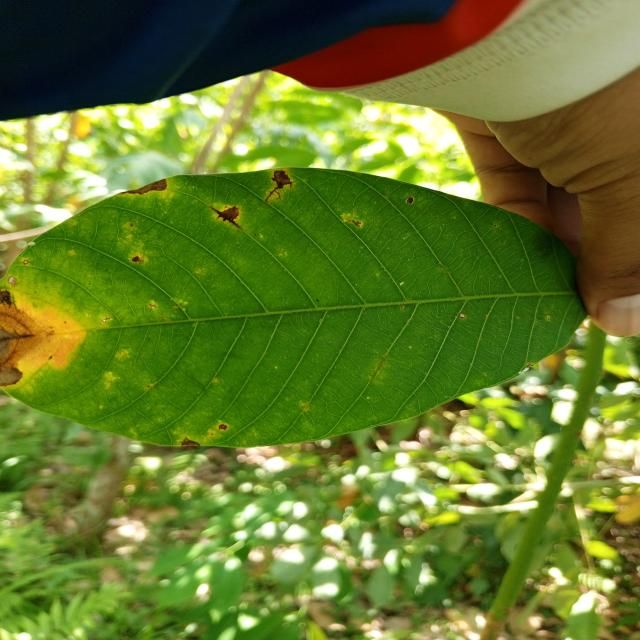Colletotrichum: (8, 276, 17, 284), (459, 313, 465, 319), (23, 260, 29, 264), (546, 317, 550, 320), (102, 319, 106, 322)
Corynespora: (265, 170, 292, 203), (208, 205, 242, 229), (0, 290, 18, 310)
Leaf-Blight: (120, 179, 168, 195), (0, 368, 23, 386), (0, 328, 12, 358), (182, 438, 200, 447)
